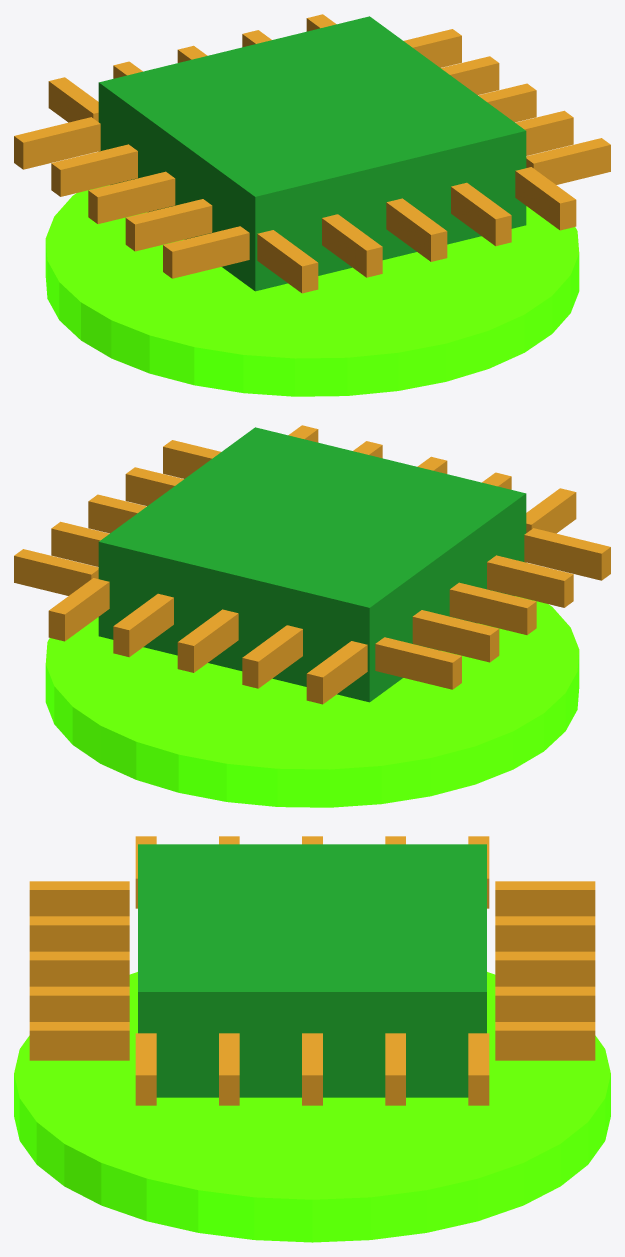
The model's file is tech_microchip.dae.
The picture shows the model from 3 angles, top to bottom: view 1: azimuth 30°, elevation 25°; view 2: azimuth 150°, elevation 25°; view 3: azimuth 270°, elevation 25°; orthographic projection. The views are drawn at different scales.
Visible parts, largest first — view 1: 08_19_Popular_Tech_Microchip_part_01, 08_19_Popular_Tech_Microchip_ROOT_base, 08_19_Popular_Tech_Microchip_part_04, 08_19_Popular_Tech_Microchip_part_05, 08_19_Popular_Tech_Microchip_part_02, 08_19_Popular_Tech_Microchip_part_03, 08_19_Popular_Tech_Microchip_part_06, 08_19_Popular_Tech_Microchip_part_11, 08_19_Popular_Tech_Microchip_part_17, 08_19_Popular_Tech_Microchip_part_19, 08_19_Popular_Tech_Microchip_part_21, 08_19_Popular_Tech_Microchip_part_18 (+6 smaller); view 2: 08_19_Popular_Tech_Microchip_part_01, 08_19_Popular_Tech_Microchip_ROOT_base, 08_19_Popular_Tech_Microchip_part_03, 08_19_Popular_Tech_Microchip_part_04, 08_19_Popular_Tech_Microchip_part_02, 08_19_Popular_Tech_Microchip_part_05, 08_19_Popular_Tech_Microchip_part_06, 08_19_Popular_Tech_Microchip_part_07, 08_19_Popular_Tech_Microchip_part_12, 08_19_Popular_Tech_Microchip_part_14, 08_19_Popular_Tech_Microchip_part_16, 08_19_Popular_Tech_Microchip_part_13 (+6 smaller); view 3: 08_19_Popular_Tech_Microchip_part_01, 08_19_Popular_Tech_Microchip_ROOT_base, 08_19_Popular_Tech_Microchip_part_16, 08_19_Popular_Tech_Microchip_part_21, 08_19_Popular_Tech_Microchip_part_13, 08_19_Popular_Tech_Microchip_part_18, 08_19_Popular_Tech_Microchip_part_12, 08_19_Popular_Tech_Microchip_part_14, 08_19_Popular_Tech_Microchip_part_15, 08_19_Popular_Tech_Microchip_part_17, 08_19_Popular_Tech_Microchip_part_19, 08_19_Popular_Tech_Microchip_part_20 (+5 smaller).
Part boxes in pixels (x1,y1,x2,y2): 08_19_Popular_Tech_Microchip_part_01: (98, 16, 526, 291); 08_19_Popular_Tech_Microchip_ROOT_base: (45, 185, 579, 396); 08_19_Popular_Tech_Microchip_part_04: (88, 171, 175, 223); 08_19_Popular_Tech_Microchip_part_05: (125, 199, 212, 251); 08_19_Popular_Tech_Microchip_part_02: (14, 117, 100, 169); 08_19_Popular_Tech_Microchip_part_03: (51, 144, 137, 196); 08_19_Popular_Tech_Microchip_part_06: (163, 226, 249, 278); 08_19_Popular_Tech_Microchip_part_11: (526, 138, 610, 184); 08_19_Popular_Tech_Microchip_part_17: (257, 230, 318, 293); 08_19_Popular_Tech_Microchip_part_19: (386, 198, 447, 261); 08_19_Popular_Tech_Microchip_part_21: (515, 167, 576, 230); 08_19_Popular_Tech_Microchip_part_18: (322, 214, 382, 277); 08_19_Popular_Tech_Microchip_part_01: (98, 427, 526, 702); 08_19_Popular_Tech_Microchip_ROOT_base: (45, 596, 579, 807); 08_19_Popular_Tech_Microchip_part_03: (412, 610, 499, 662); 08_19_Popular_Tech_Microchip_part_04: (449, 582, 536, 634); 08_19_Popular_Tech_Microchip_part_02: (375, 637, 461, 689); 08_19_Popular_Tech_Microchip_part_05: (487, 555, 573, 607); 08_19_Popular_Tech_Microchip_part_06: (524, 528, 610, 580); 08_19_Popular_Tech_Microchip_part_07: (14, 549, 98, 595); 08_19_Popular_Tech_Microchip_part_12: (306, 641, 367, 704); 08_19_Popular_Tech_Microchip_part_14: (177, 609, 238, 672); 08_19_Popular_Tech_Microchip_part_16: (48, 578, 109, 641); 08_19_Popular_Tech_Microchip_part_13: (242, 625, 302, 688); 08_19_Popular_Tech_Microchip_part_01: (138, 844, 486, 1097); 08_19_Popular_Tech_Microchip_ROOT_base: (14, 972, 610, 1242); 08_19_Popular_Tech_Microchip_part_16: (495, 1022, 595, 1060); 08_19_Popular_Tech_Microchip_part_21: (29, 1022, 129, 1060); 08_19_Popular_Tech_Microchip_part_13: (495, 916, 595, 951); 08_19_Popular_Tech_Microchip_part_18: (29, 916, 129, 951); 08_19_Popular_Tech_Microchip_part_12: (495, 881, 595, 916); 08_19_Popular_Tech_Microchip_part_14: (495, 951, 595, 986); 08_19_Popular_Tech_Microchip_part_15: (495, 986, 595, 1021); 08_19_Popular_Tech_Microchip_part_17: (29, 881, 129, 916); 08_19_Popular_Tech_Microchip_part_19: (29, 951, 129, 986); 08_19_Popular_Tech_Microchip_part_20: (29, 986, 129, 1021).
Bounding box in the file's own units: 0.76 × 0.2782 × 0.76.
